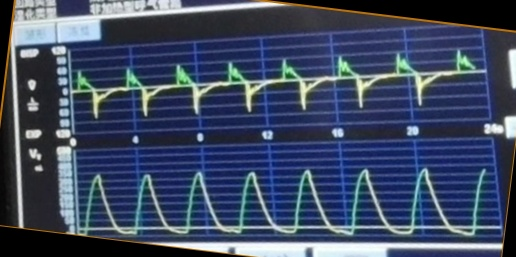Accumulation Flow: (74, 49, 480, 120)
Volume: (83, 166, 491, 237)
